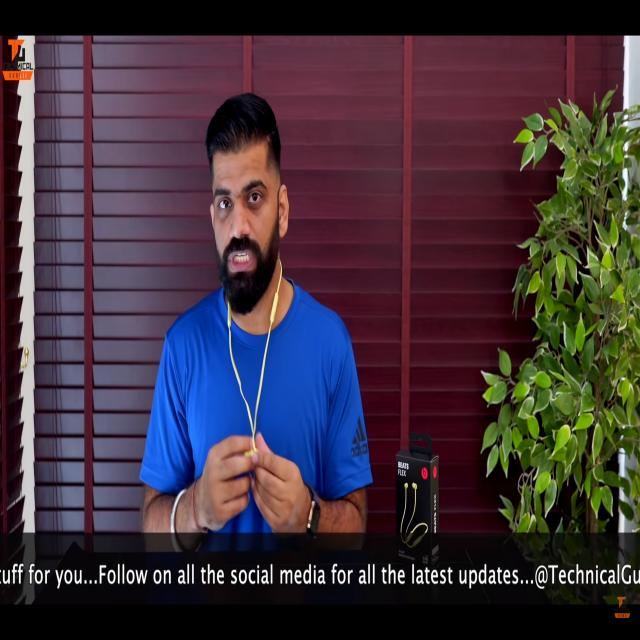Neckband: (227, 257, 283, 458)
